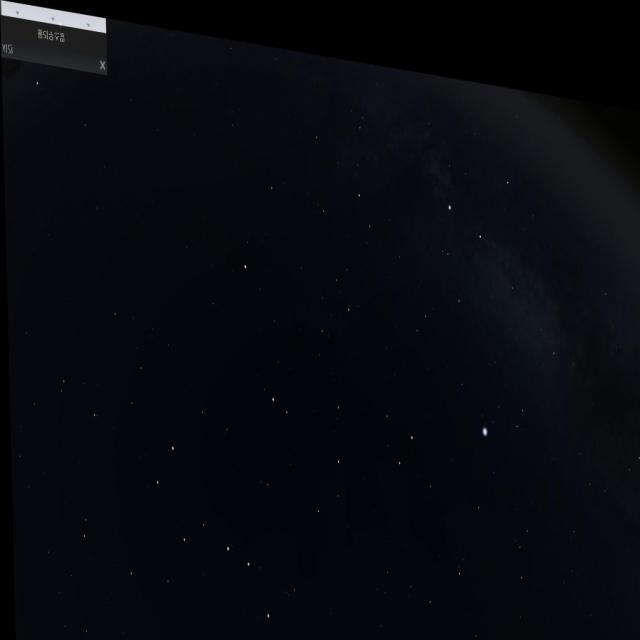cygnus: (430, 135, 566, 363)
lyra: (477, 363, 529, 428)
ursa_major: (160, 442, 288, 626)
